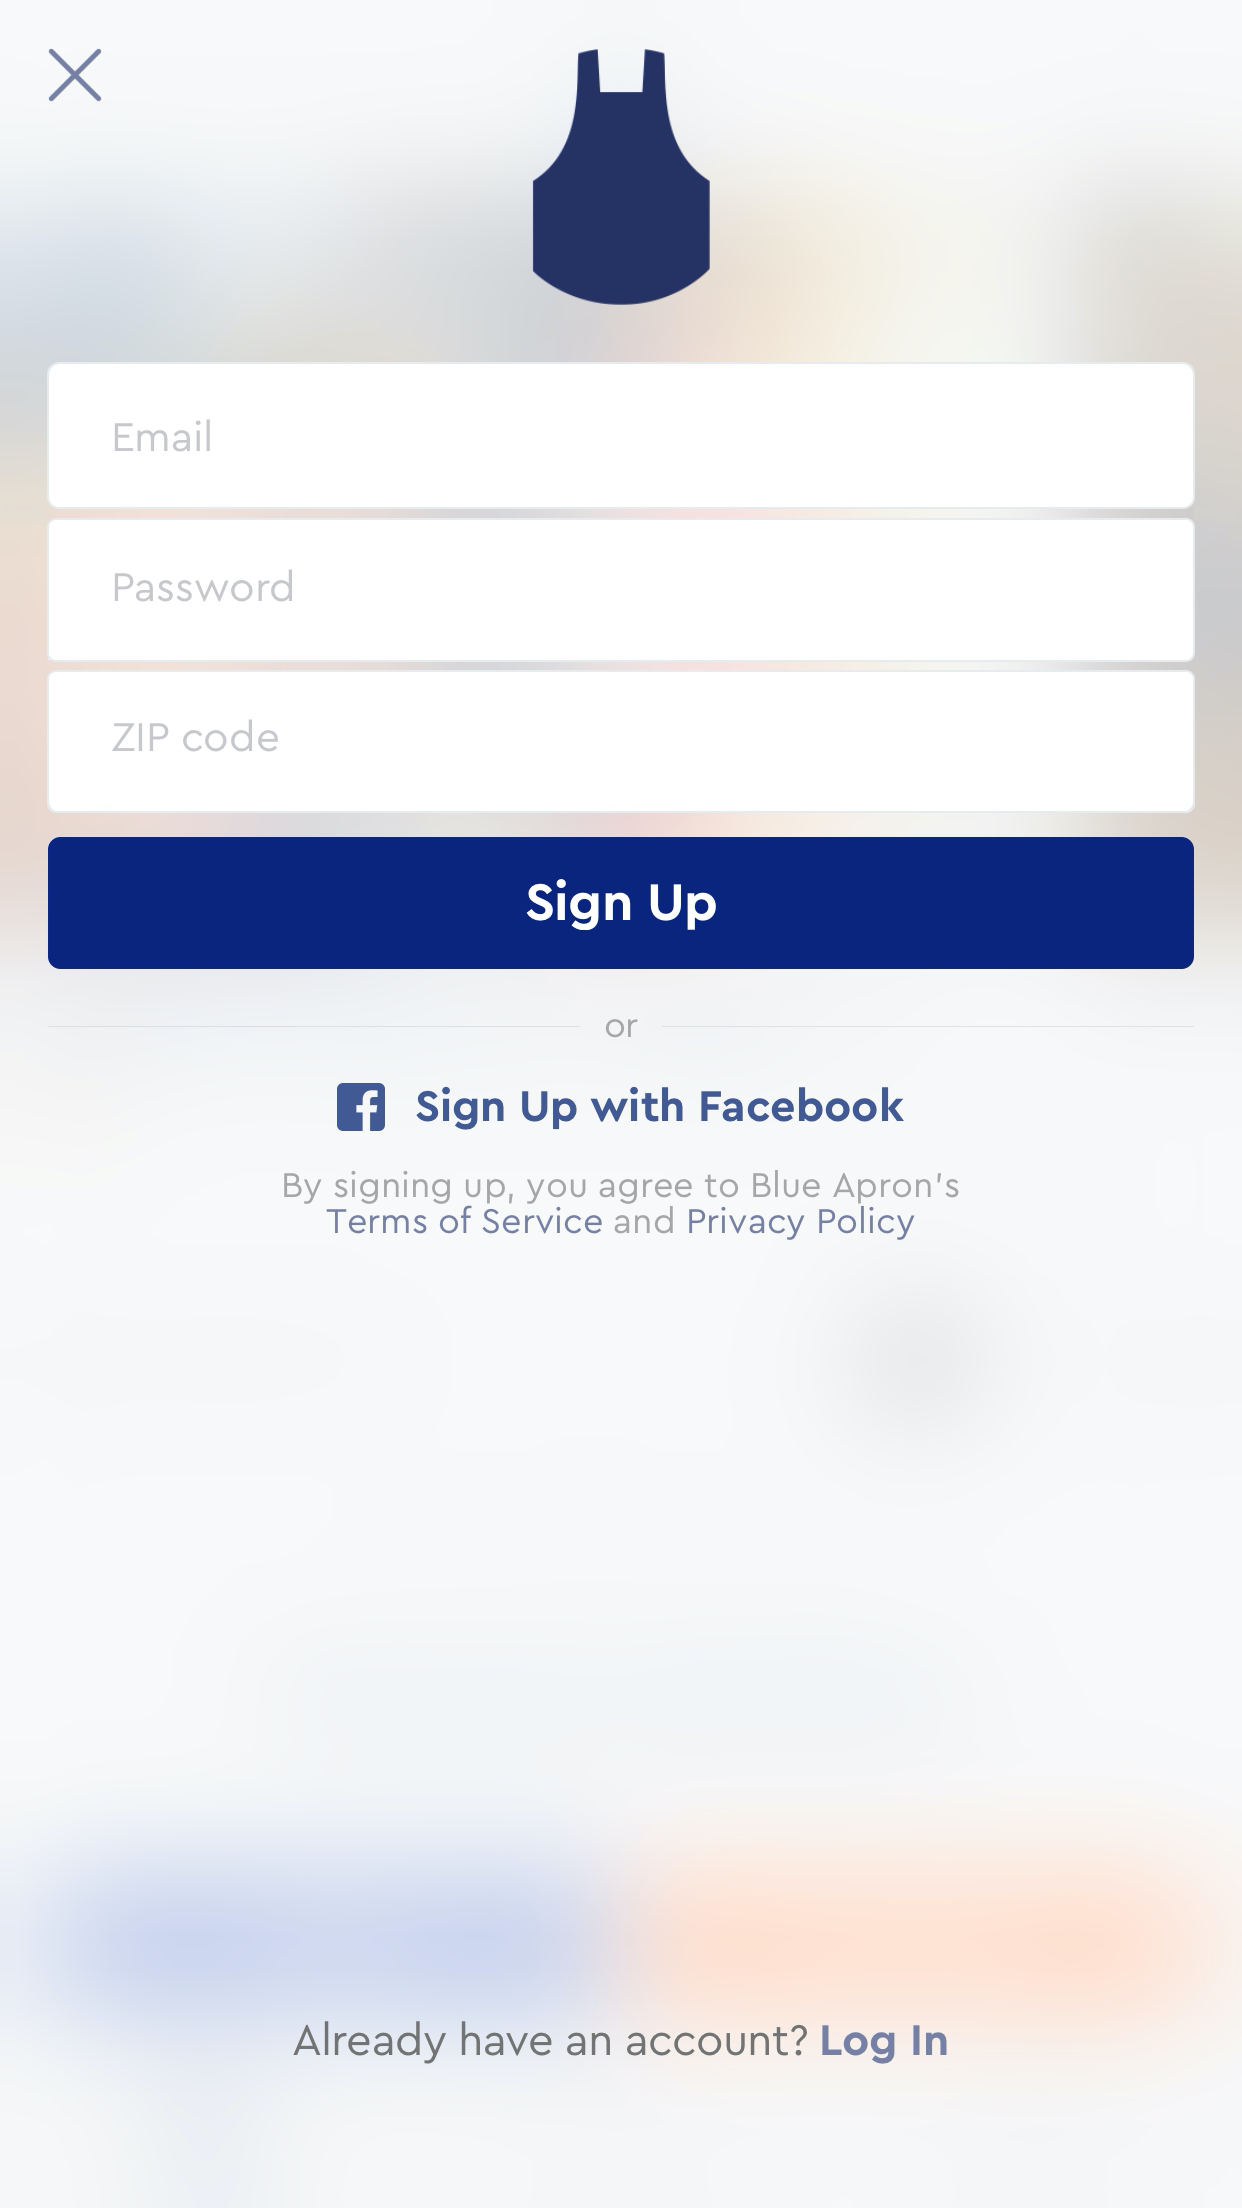EditText: (47, 362, 1195, 510), (49, 670, 1195, 814), (49, 519, 1195, 663)
Icon: (49, 49, 103, 103), (337, 1083, 387, 1131)
Image: (532, 49, 711, 306)
Text: (284, 1169, 958, 1240), (293, 2020, 948, 2065), (416, 1087, 905, 1131), (114, 569, 294, 604), (112, 717, 281, 754), (115, 419, 211, 453), (607, 1018, 638, 1037)
TextButton: (49, 837, 1193, 971)
